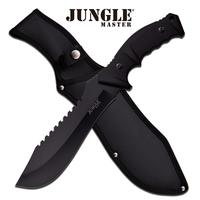knife: (12, 13, 182, 194)
